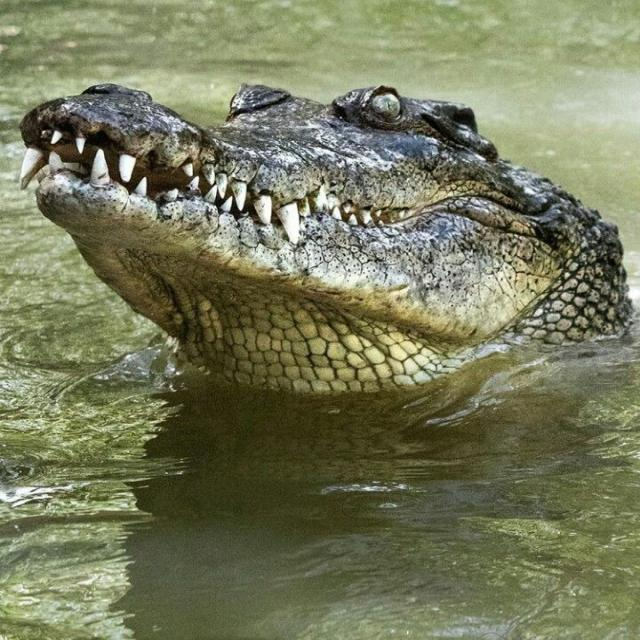Carnivorous: (19, 84, 627, 396)
